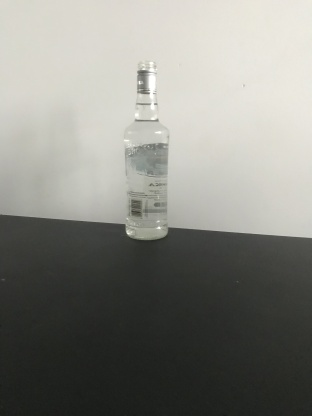nakretka: (135, 58, 158, 96)
